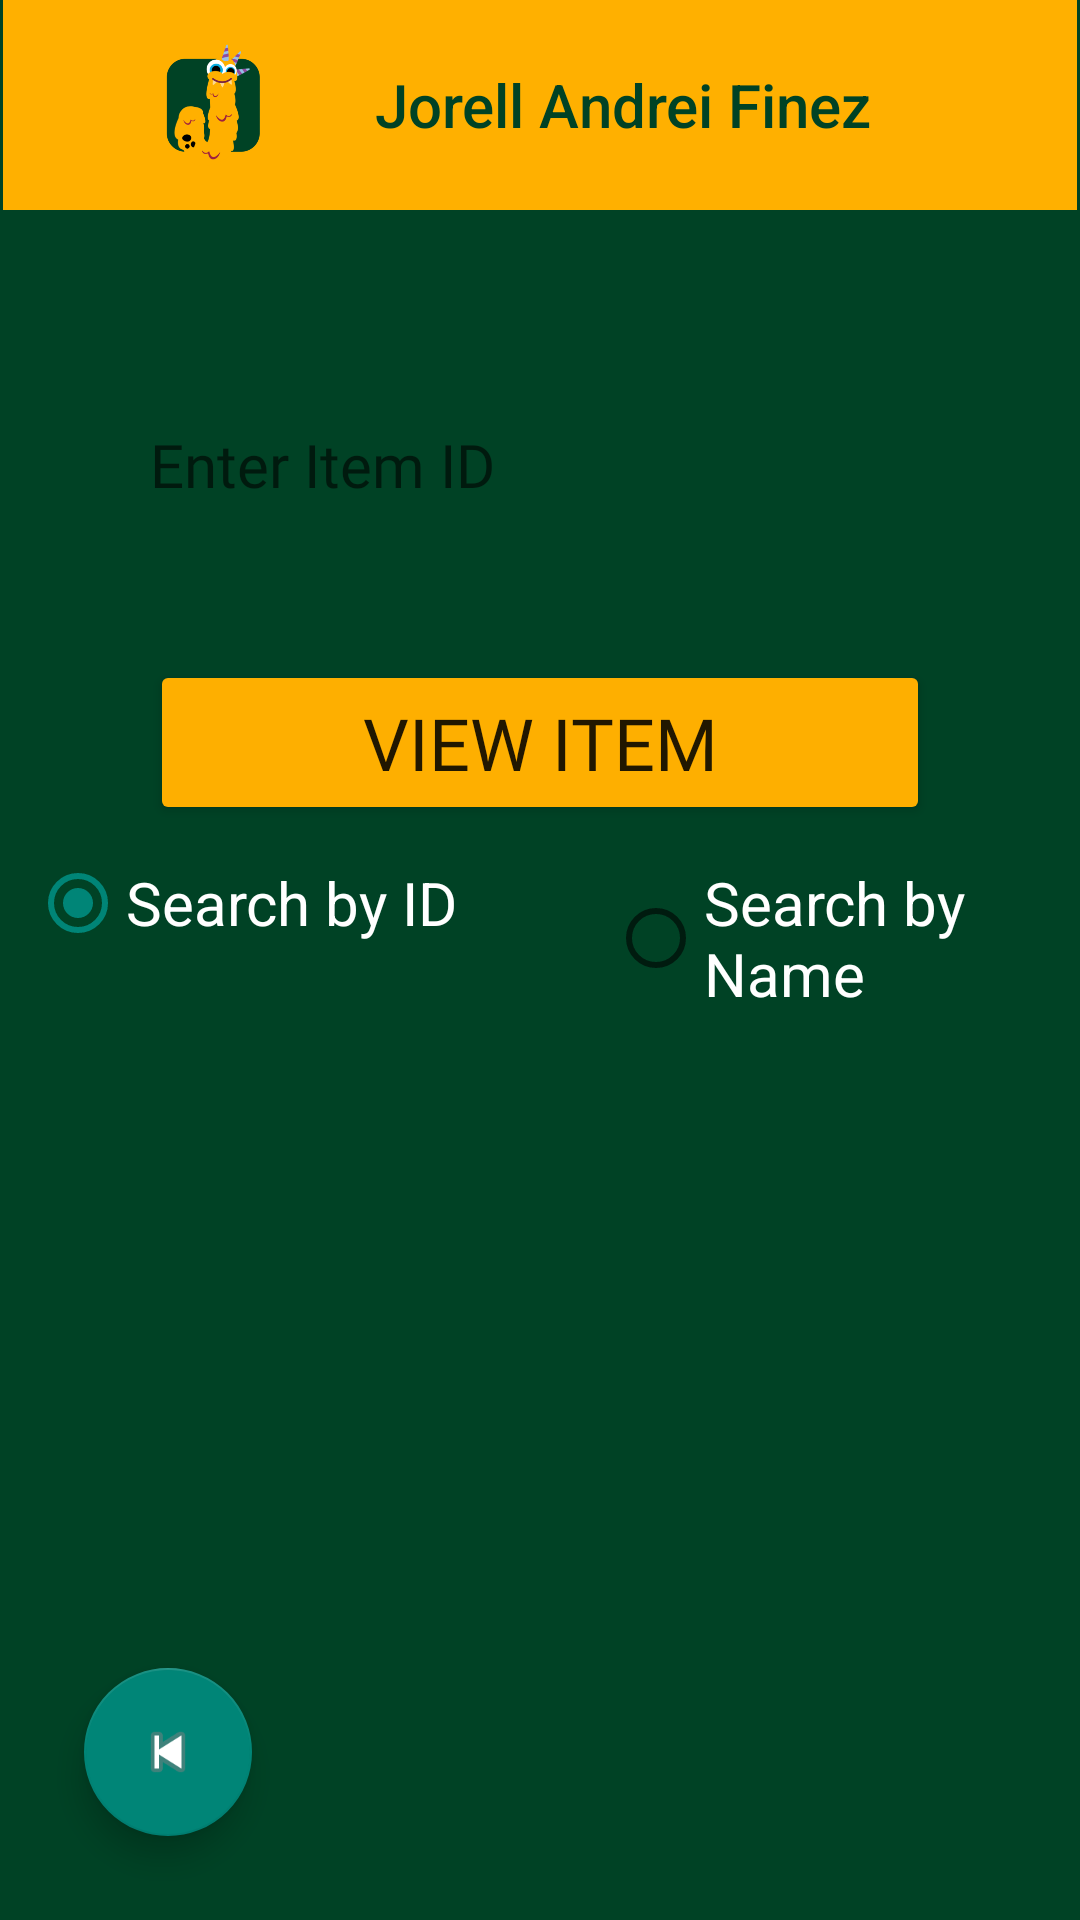

Where icons sit on this 1080px x 1920px app screen, as (x1, y1, x2, y2):
previous: (84, 1668, 252, 1836)
